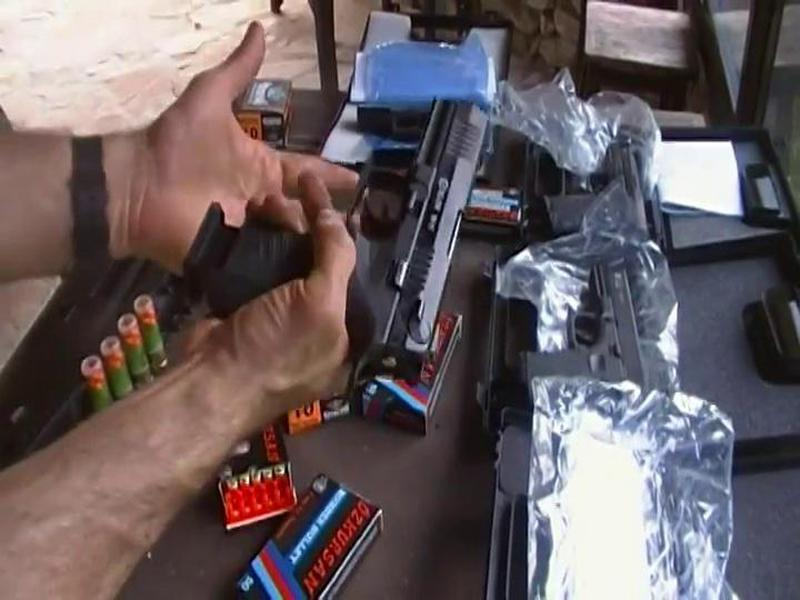Pistola: (254, 68, 501, 383)
